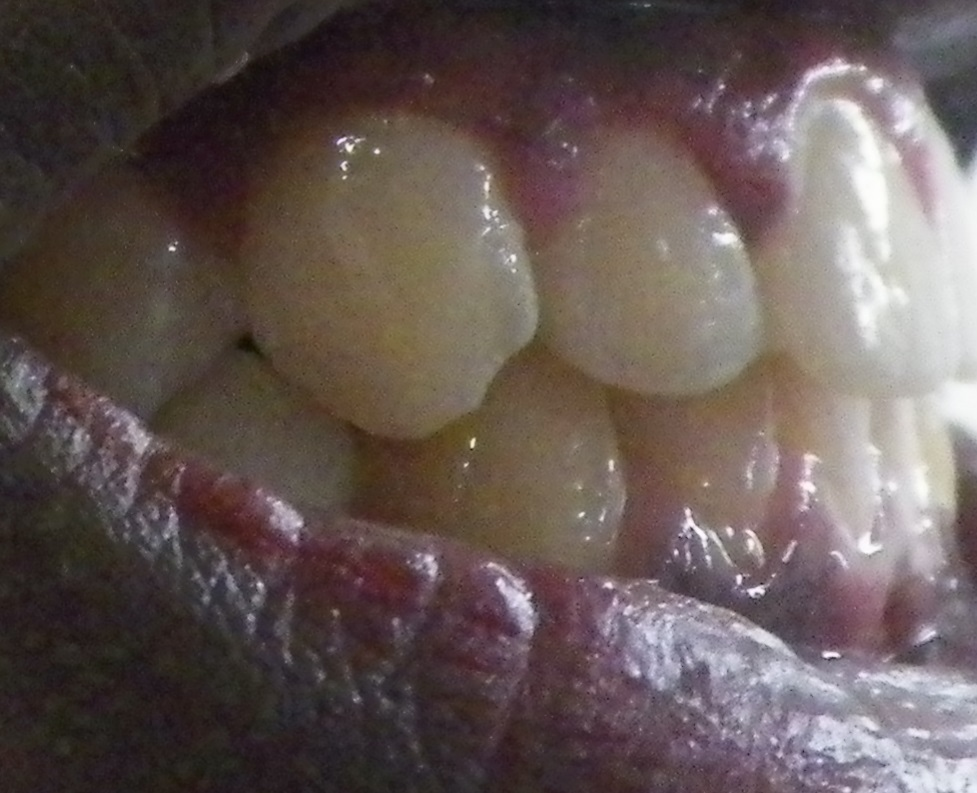boca: (12, 96, 973, 585)
